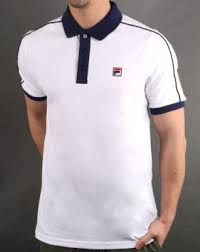S_polo shirt: (16, 8, 189, 252)
